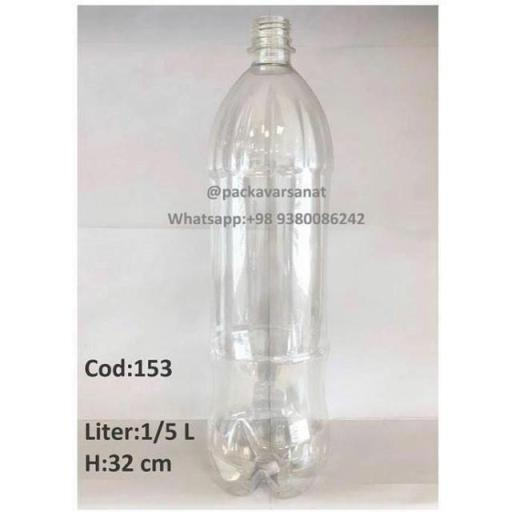plastic: (200, 14, 336, 502)
